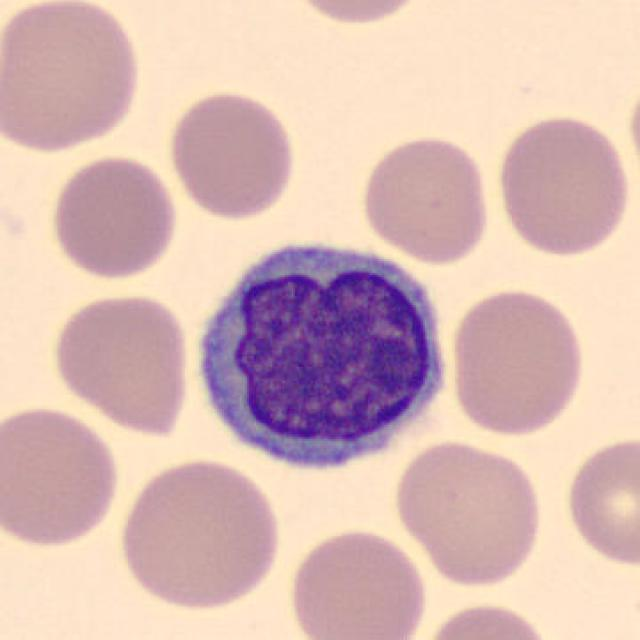Lymphocyte: (185, 228, 457, 480)
RBC: (114, 453, 286, 612), (390, 435, 548, 589), (0, 0, 148, 157), (444, 284, 590, 439), (48, 289, 194, 437), (490, 109, 634, 259), (0, 400, 124, 551), (164, 85, 298, 222), (358, 132, 494, 266), (46, 152, 183, 284), (282, 523, 432, 640), (560, 432, 638, 569), (416, 599, 555, 640), (279, 0, 434, 28)
